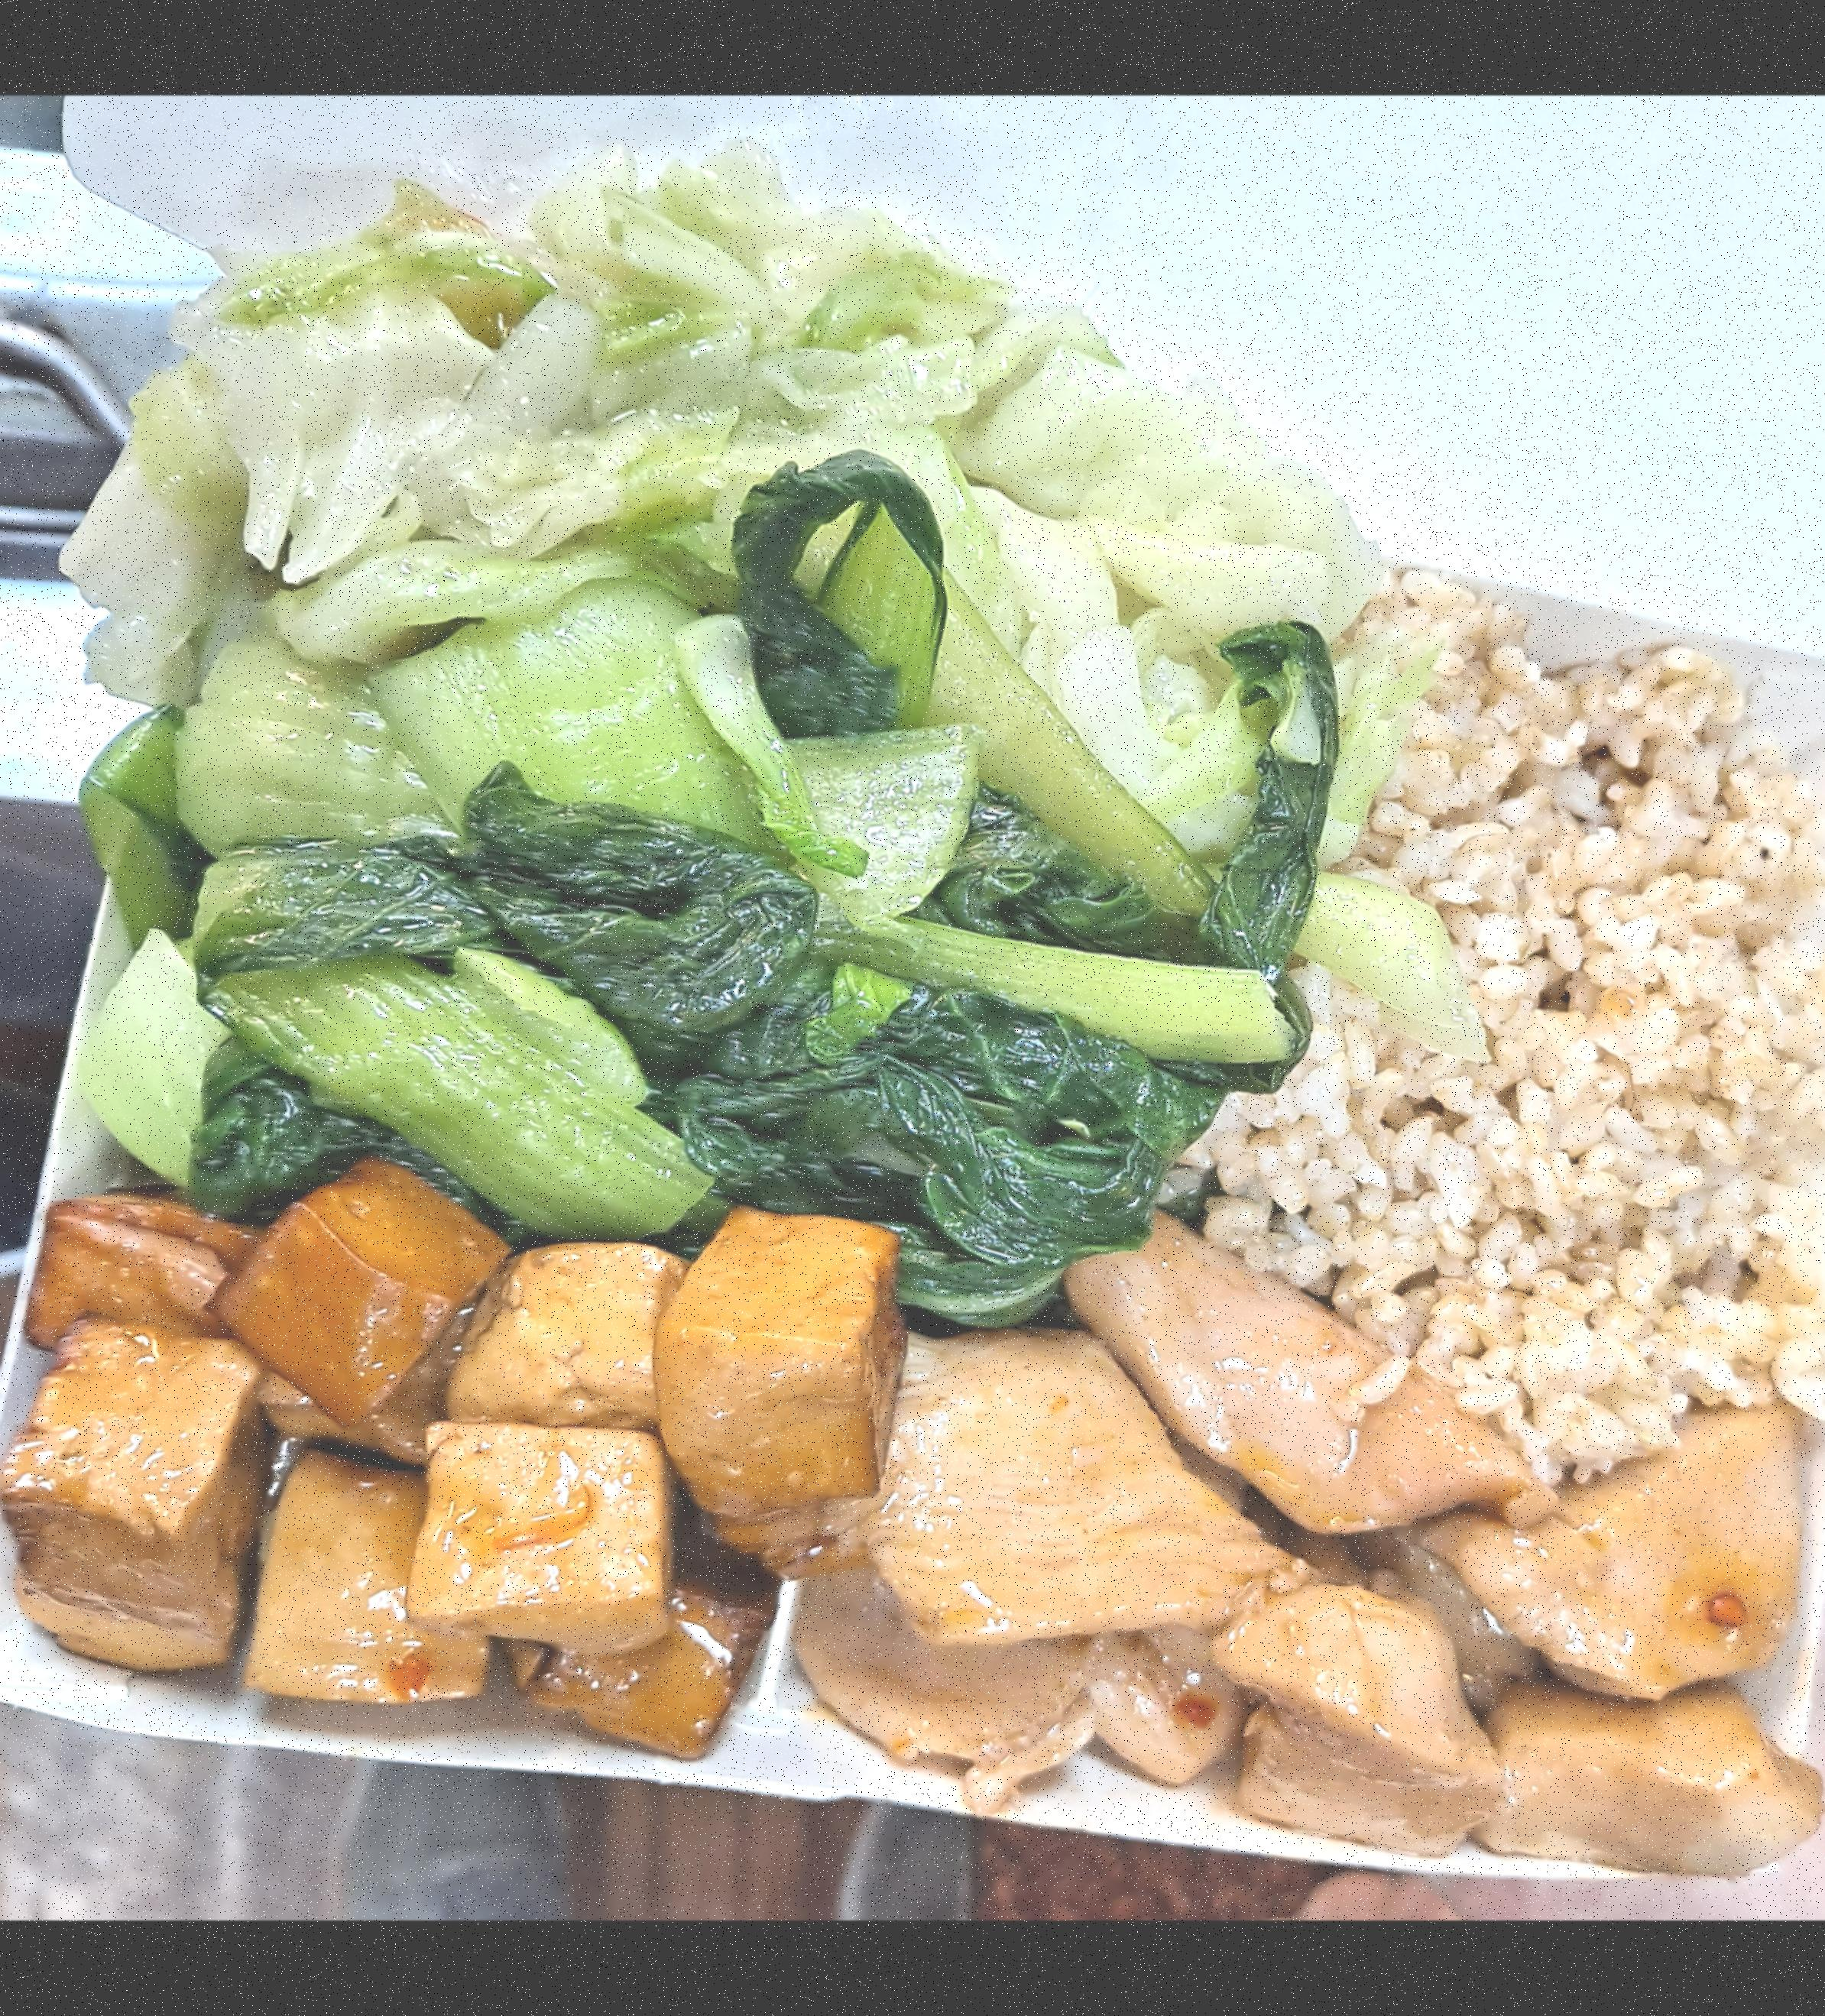big grilled chicken leg: (357, 634, 1825, 1904)
box: (1384, 903, 1825, 1544)
braised fish fillet: (494, 897, 1477, 1398), (511, 543, 1511, 966), (415, 1338, 1158, 1782)
braised pork: (1049, 1421, 1825, 1888)
